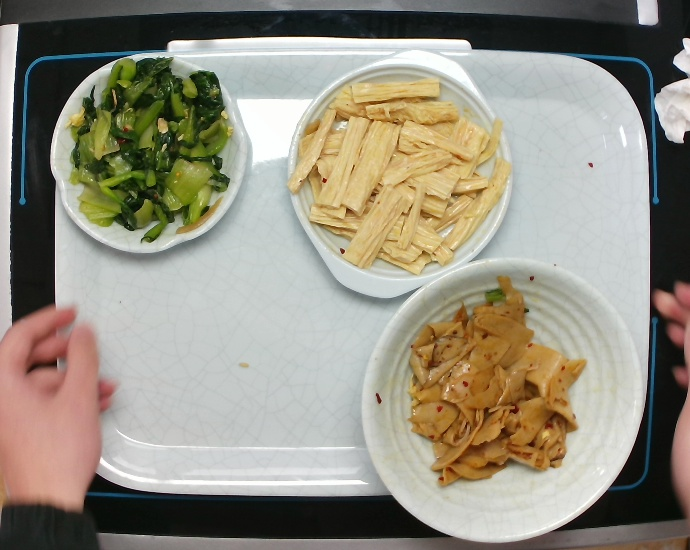JYsf-Ao_Yuan_Wan: (44, 45, 252, 260)
JYsf-Shuang_Er_Pan: (280, 46, 526, 313)
JYsf-Xiao_Tang_Wan: (351, 250, 658, 550)
